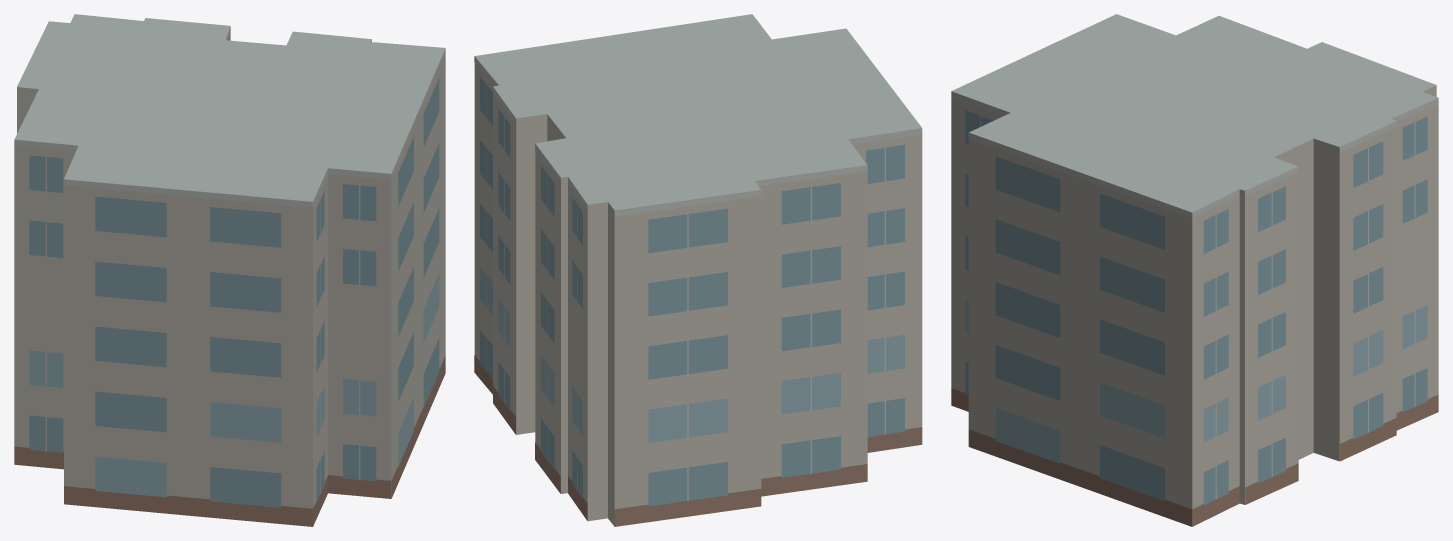
Rendered from survey-upis-32826587.glb.
3 views of the same model, side by side, from view 1: azimuth 30°, elevation 25°; view 2: azimuth 150°, elevation 25°; view 3: azimuth 270°, elevation 25° (orthographic). The views are drawn at different scales.
Visible parts, largest first — view 1: survey-upis-32826587.tmp; view 2: survey-upis-32826587.tmp; view 3: survey-upis-32826587.tmp.
Part boxes in pixels (bbox=[...]): survey-upis-32826587.tmp: bbox=[14, 14, 445, 526]; survey-upis-32826587.tmp: bbox=[474, 14, 922, 526]; survey-upis-32826587.tmp: bbox=[951, 14, 1438, 526].
Bounding box in the file's own units: 17.27 × 12.74 × 17.91.
